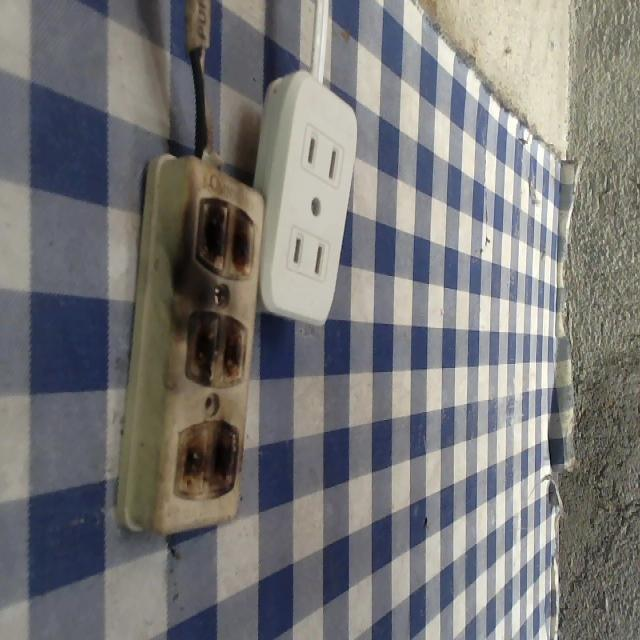-: (182, 307, 260, 388), (191, 190, 257, 274), (174, 413, 243, 492)
